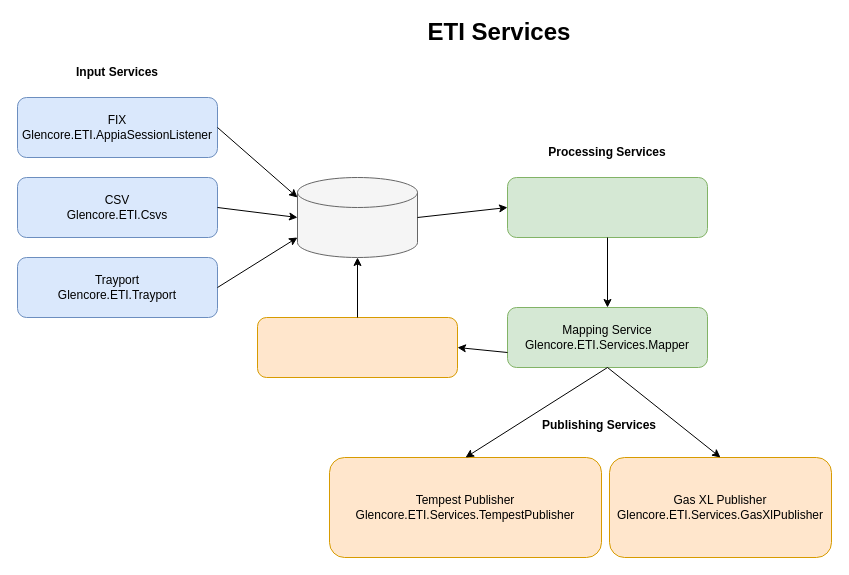
The diagram is 849 pixels wide and 575 high, and some of its shapes have lost their labels. The shapes that lost their labels are listed below. From the top down, each one's centre as x and y in pixels, then its label:
the point at 357,217: ETI Gateway Database
the point at 607,207: Republisher Glencore.ETI.Republisher
the point at 357,347: Audit Publisher
